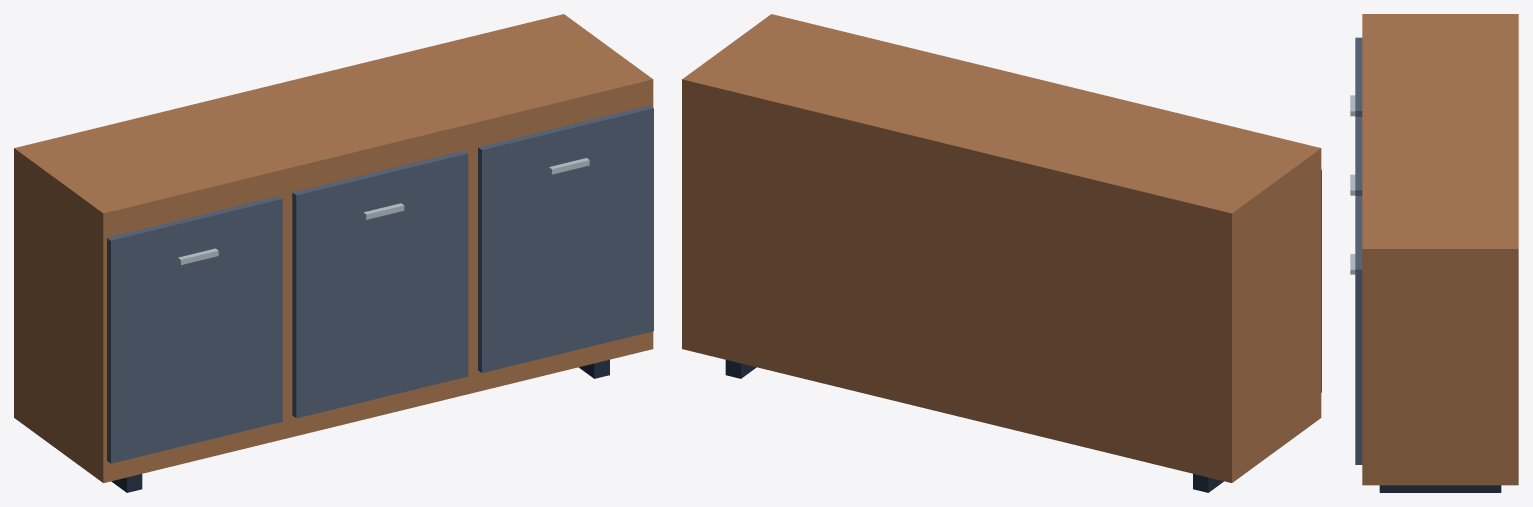
File: officeCredenza.glb
3 renders of one model, left to right at view 1: azimuth 30°, elevation 25°; view 2: azimuth 150°, elevation 25°; view 3: azimuth 270°, elevation 25°, orthographic. The views are drawn at different scales.
Size of the model in its own units: 1.6 by 0.82 by 0.485.
